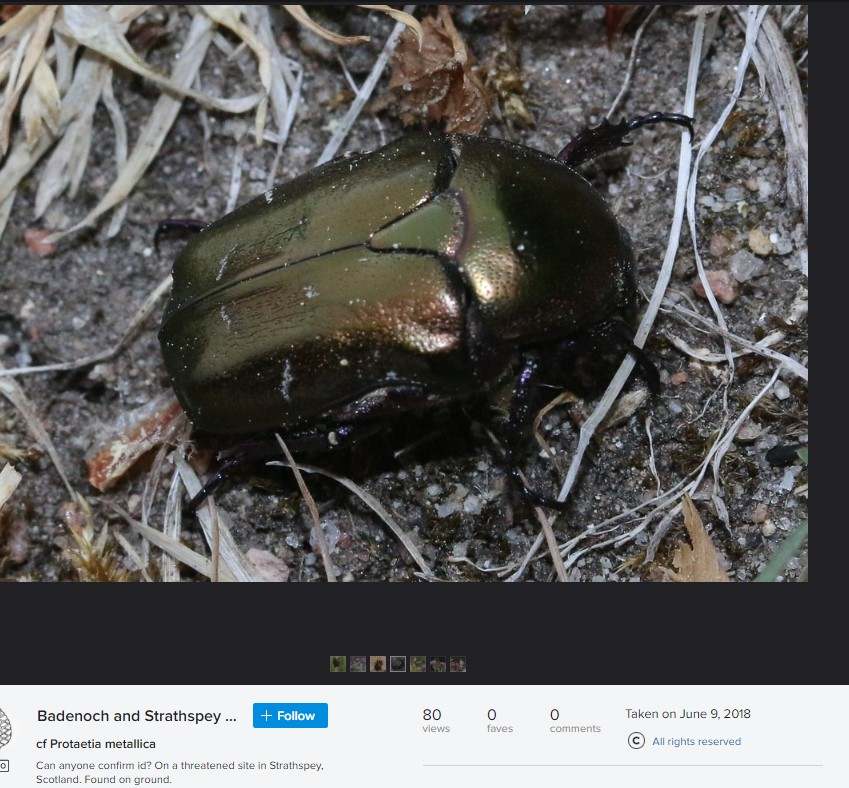Protaetia_metallica: (148, 100, 700, 494)
